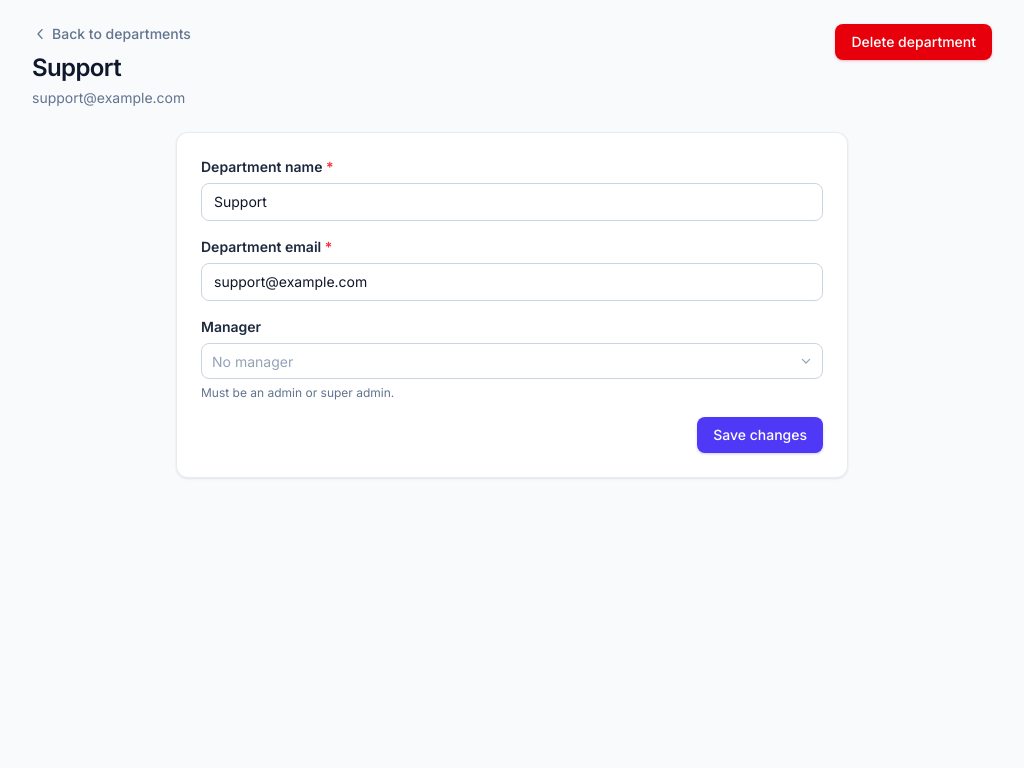
DepartmentDetailsPage › closes the dialog and shows an error toast when deletion fails
Click the button "Delete department" at x=914, y=42, box [836,24,992,60]
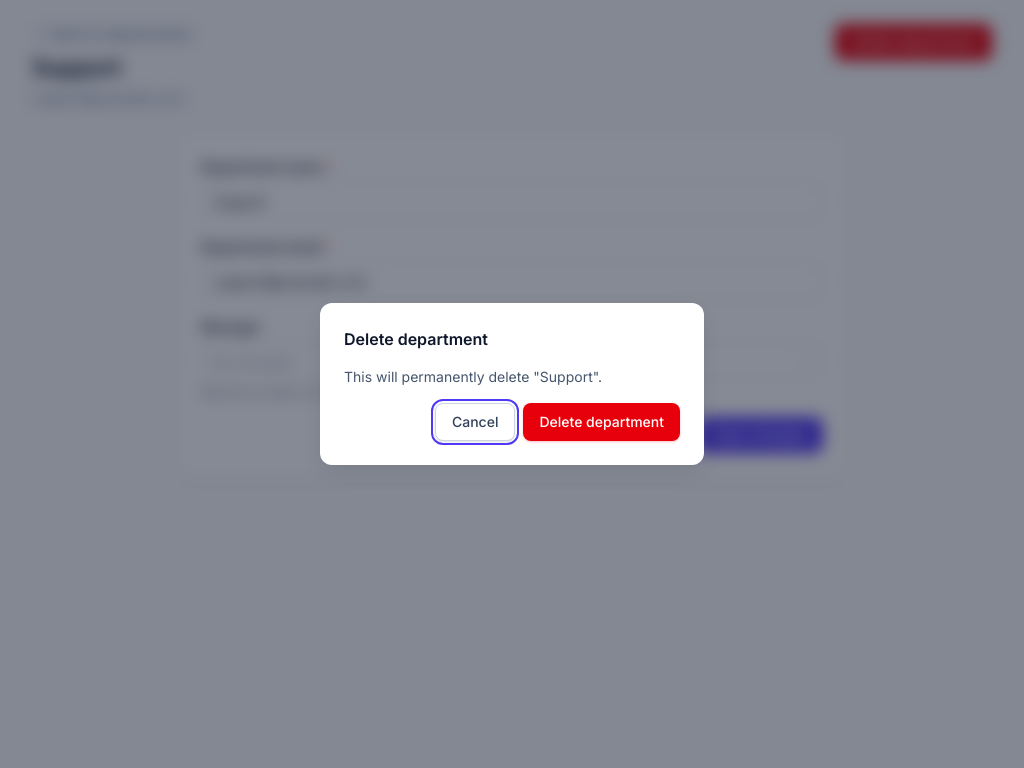
Click the button "Delete department" at x=602, y=422, box [524,403,680,441]
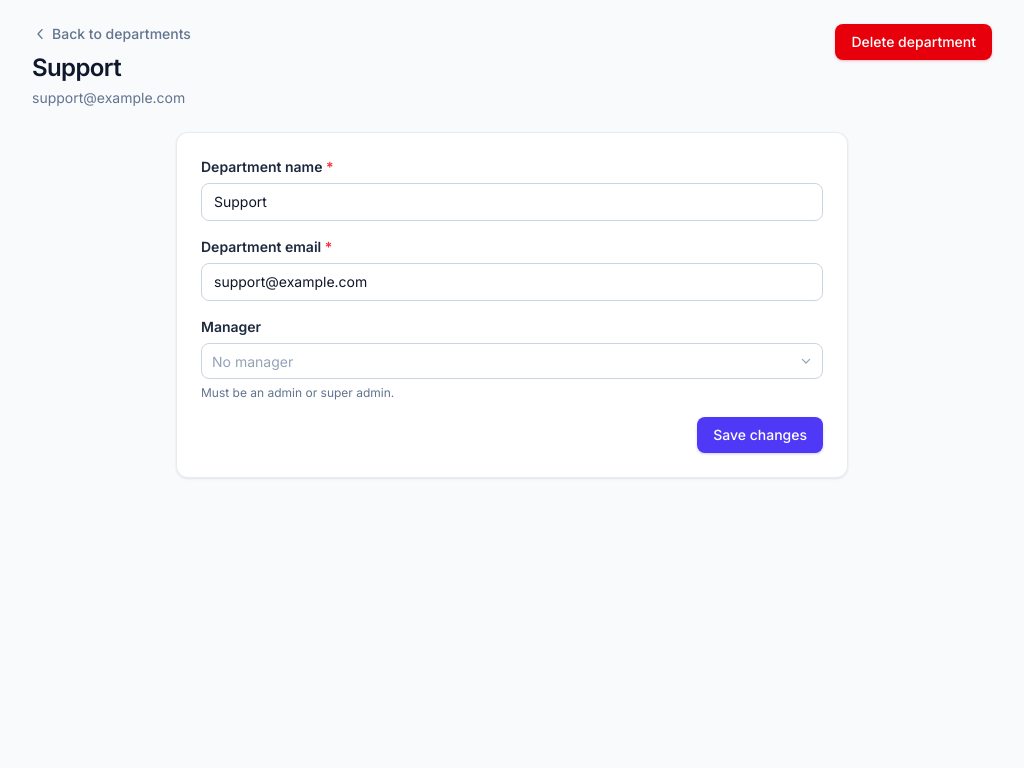
Expected: the dialog is gone
